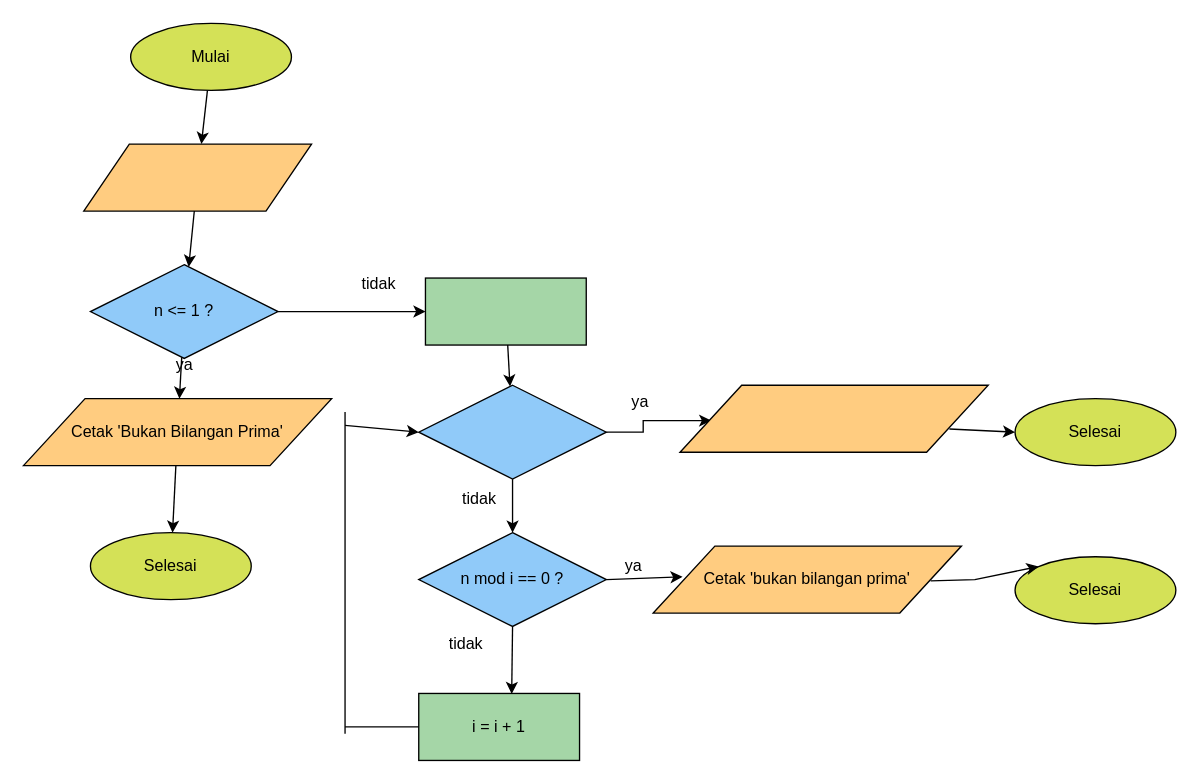
This 1199x784 diagram has some shape labels left out. The centre of each missing label's shape, as x and y in pixels:
Cetak 'Bilangan Prima': the point at 833,418
i <= sqrt(n) ?: the point at 511,431
i = 2: the point at 505,311
Masukkan n: the point at 197,177
